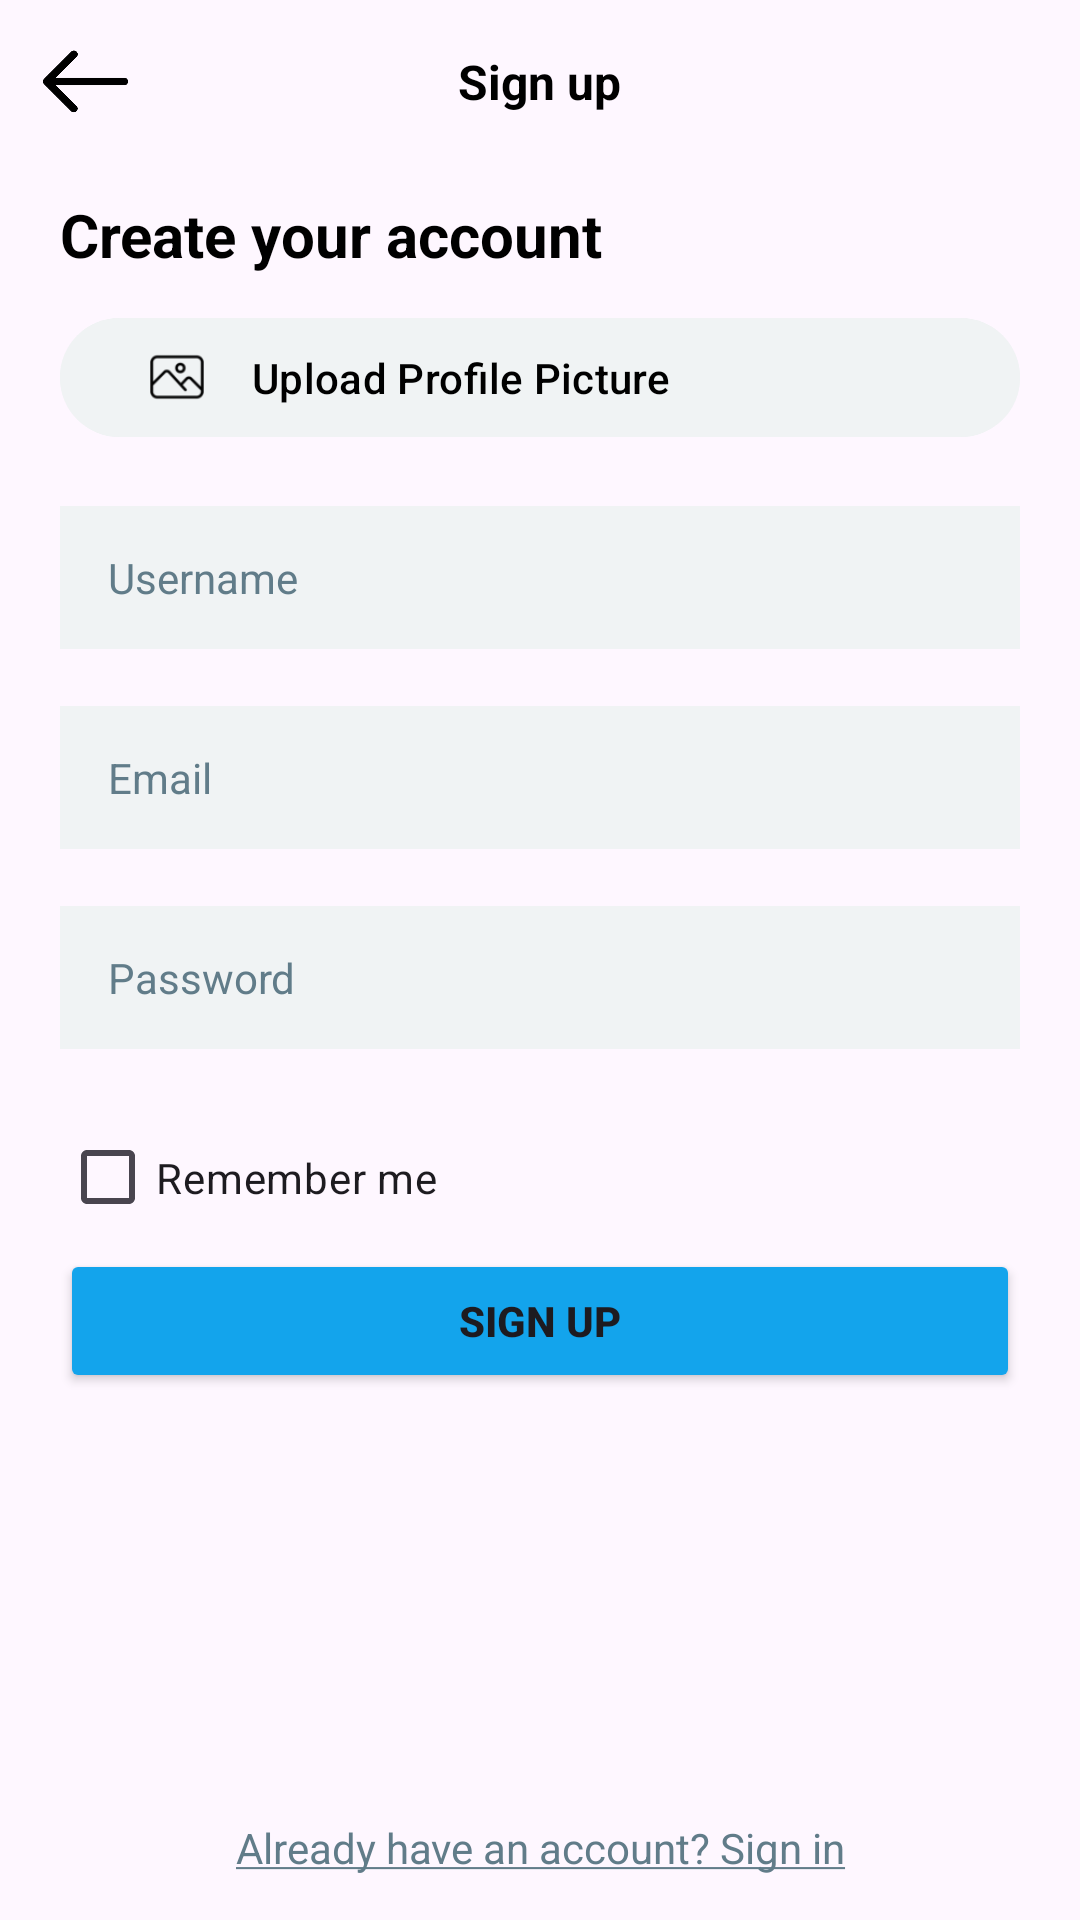

Named icons in this screenshot (1080w x 1920h) and their centers, [x,y]:
arrow back: [85,81]
